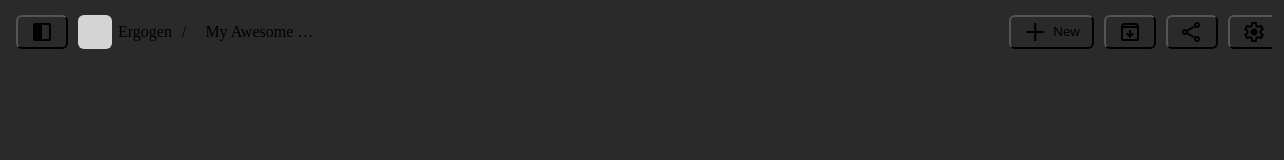
Test: Header › submits inline rename using the confirm check button
Click the text "My Awesome Board".
click(260, 32)  # box left=205, top=23, right=315, bottom=41
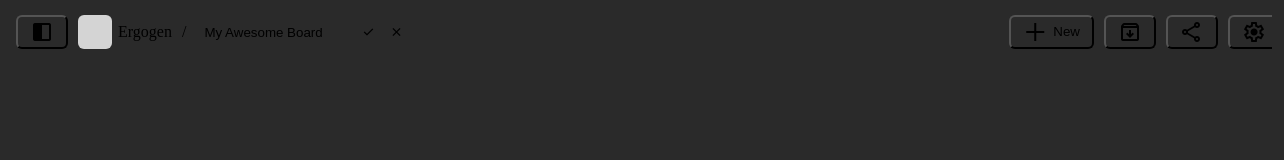
Replace the text in the field with test id "header-config-name-input" with "Checked Rename" at (274, 32), box left=204, top=15, right=344, bottom=49
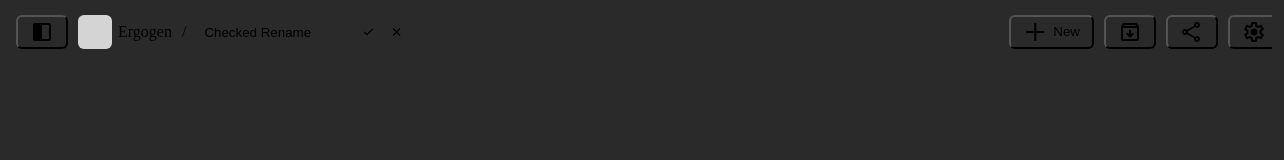
Click the button with test id "header-confirm-rename-btn".
click(368, 32)  # box left=356, top=20, right=380, bottom=44
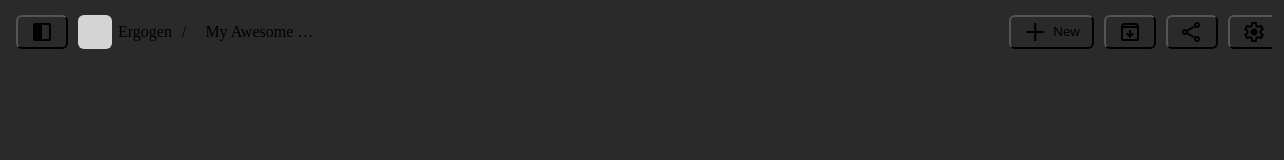
Expected: the field with test id "header-config-name-input" is gone
